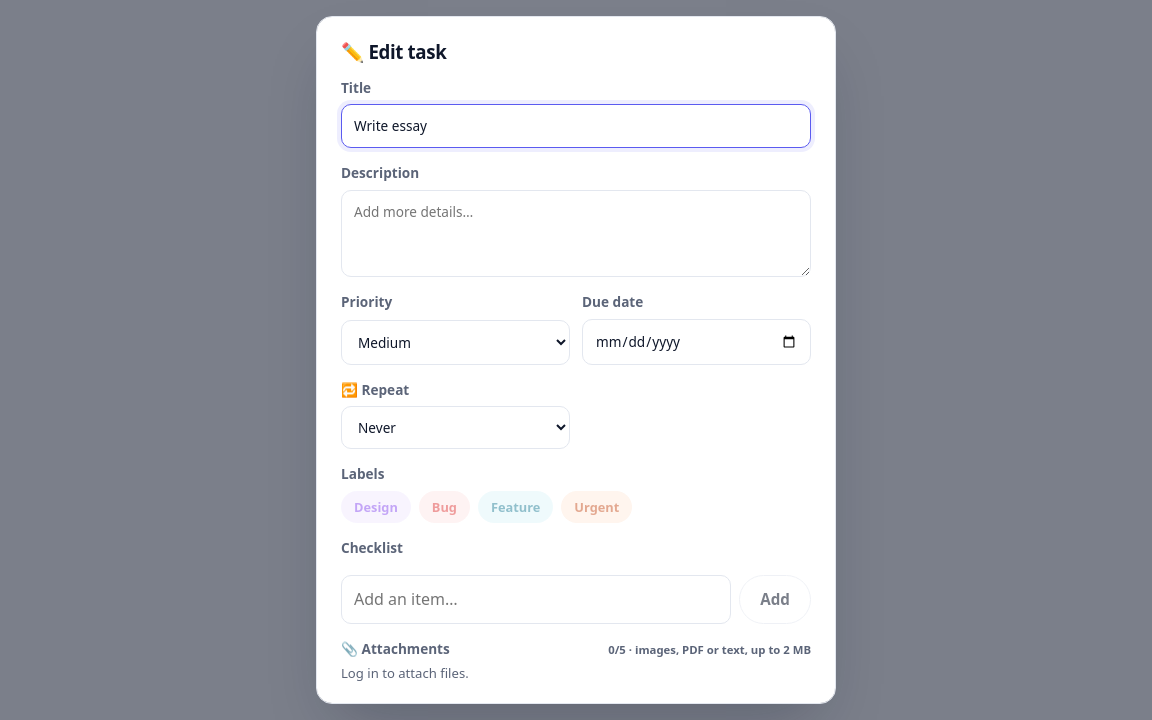
Test: TaskModal › blocks an empty title
This screenshot has width=1152, height=720.
Clear the field labelled "Title" at (576, 126), box [341,104,811,148]
(page scrolled)
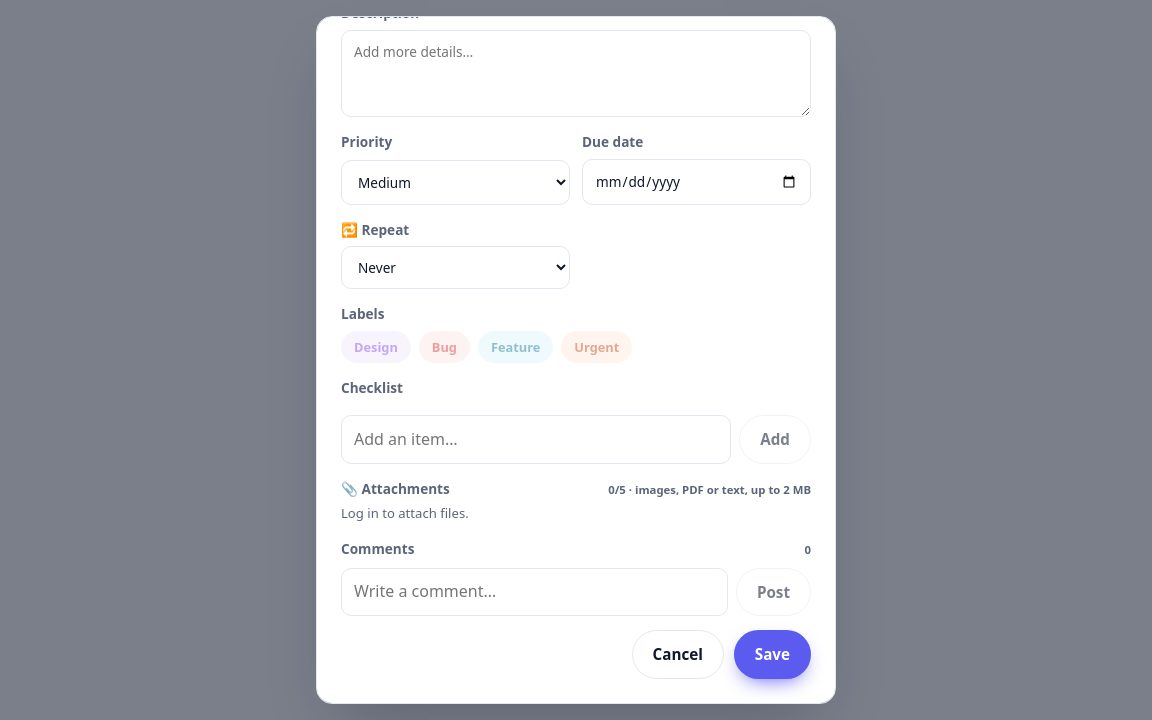
Click the button "Save" at (772, 655), box [734,630,811,679]
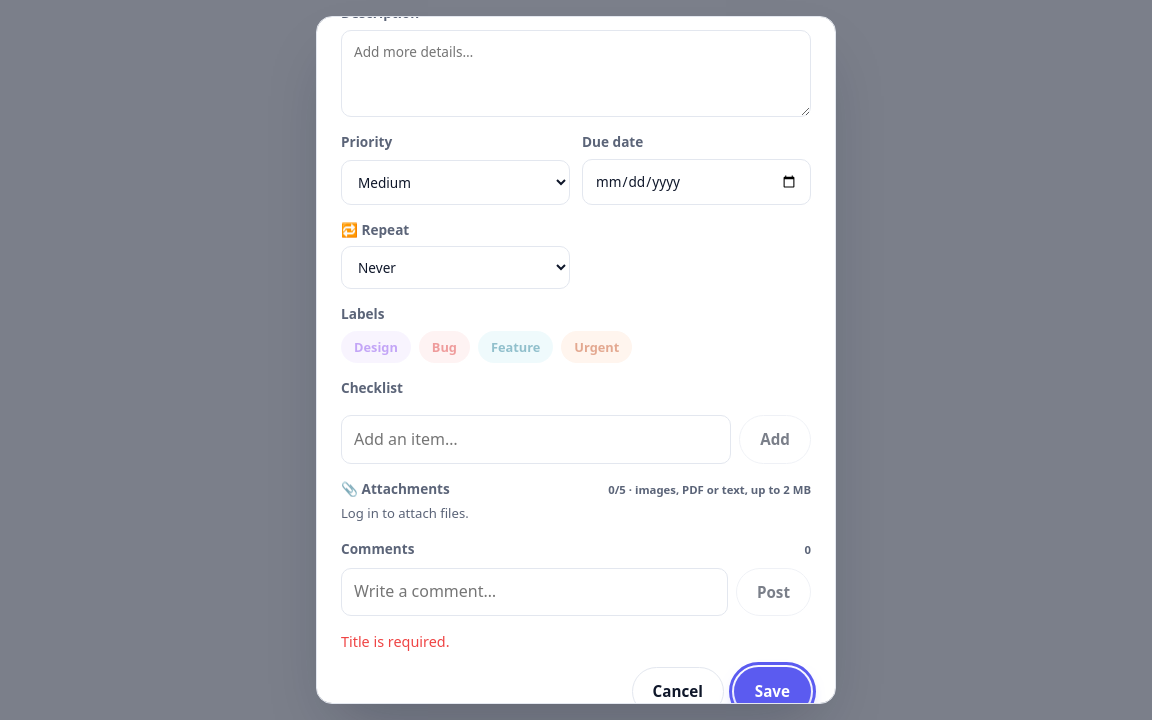
Result: the text "Title is required." is shown at [341,632,450,651]
